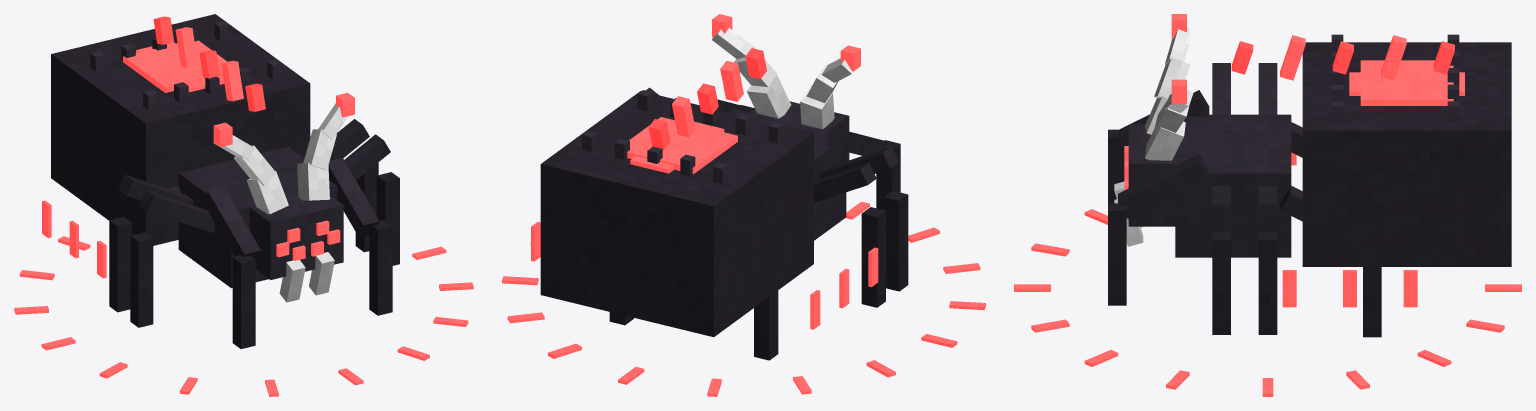
File: spider_evo2.glb
3 views of the same model, side by side, from view 1: azimuth 30°, elevation 25°; view 2: azimuth 150°, elevation 25°; view 3: azimuth 270°, elevation 25° (orthographic). The views are drawn at different scales.
Visible parts, largest first — view 1: Torso, Head, ArmR, ArmL, Root; view 2: Torso, Head, Root, ArmR, LegR; view 3: Torso, Head, ArmL, Root, LegL, ArmR.
Boxes of the visible parts, x1,y1,x2,y2 form: Torso: (42, 14, 399, 327); Head: (213, 92, 354, 302); ArmR: (203, 186, 260, 348); ArmL: (328, 157, 392, 315); Root: (14, 236, 473, 396); Torso: (531, 48, 908, 337); Head: (712, 14, 860, 160); Root: (502, 201, 985, 396); ArmR: (826, 127, 900, 209); LegR: (754, 290, 778, 360); Torso: (1175, 34, 1511, 334); Head: (1114, 14, 1193, 246); ArmL: (1108, 154, 1209, 305); Root: (1014, 209, 1521, 396); LegL: (1280, 186, 1381, 337); ArmR: (1108, 90, 1209, 203).
Bounding box in the file's own units: 2.19 × 1.23 × 2.19.
Materials: 12 (12 with a texture image).
